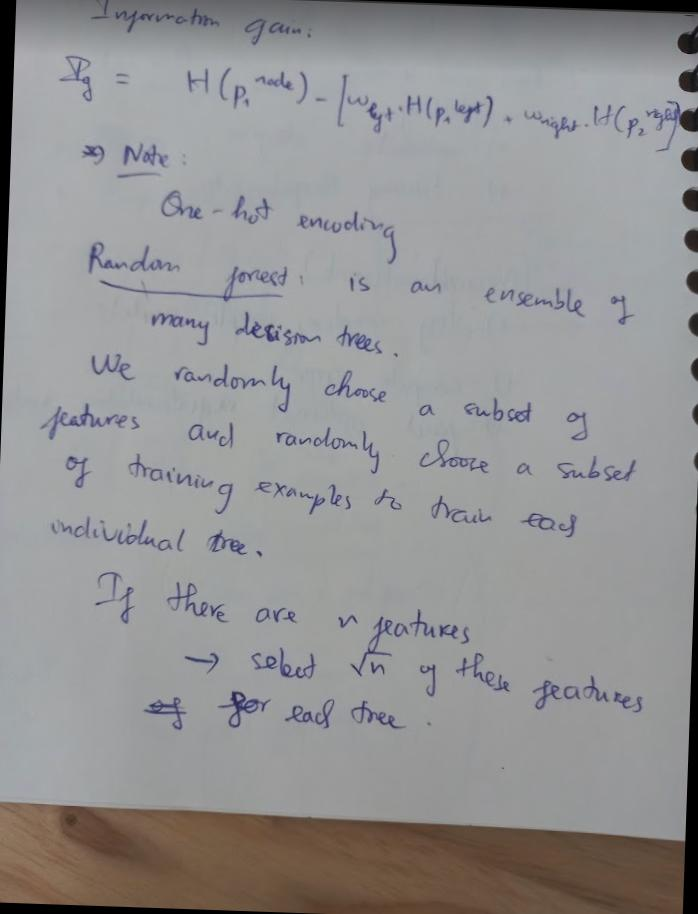text: (51, 46, 687, 154), (32, 397, 641, 492), (81, 236, 638, 331), (62, 446, 584, 546), (82, 346, 596, 446), (177, 635, 649, 720), (88, 564, 476, 660), (155, 180, 402, 270), (142, 679, 408, 748), (143, 298, 401, 364), (45, 507, 266, 568), (91, 0, 318, 52), (78, 132, 175, 184)
